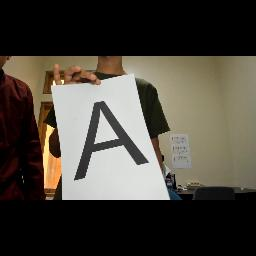a: (70, 95, 154, 187)
